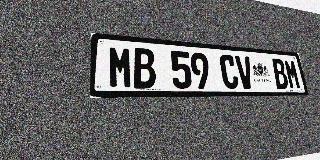5: (170, 50, 193, 89)
9: (190, 52, 211, 89)
B: (132, 48, 157, 89), (271, 58, 289, 89)
C: (219, 54, 240, 89)
M: (108, 46, 133, 88), (283, 59, 301, 89)
V: (235, 56, 255, 89)
